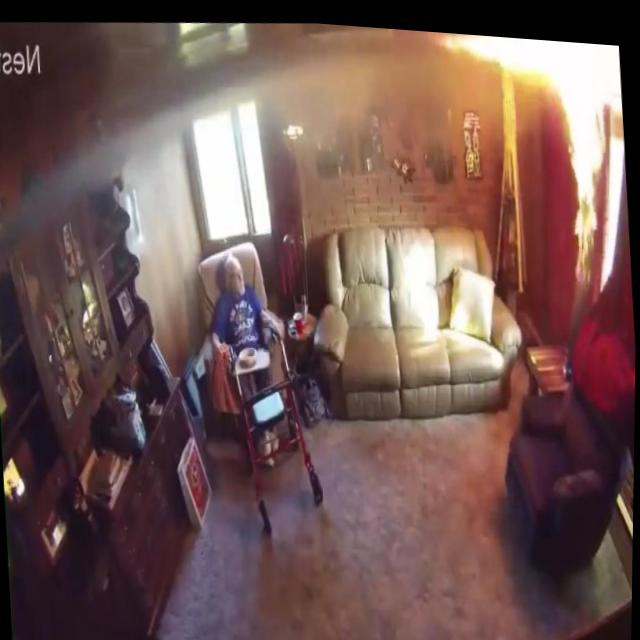fire: (547, 32, 633, 275), (435, 25, 620, 100)
